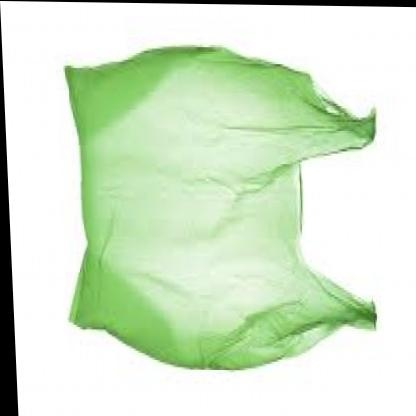trash: (66, 47, 375, 368)
